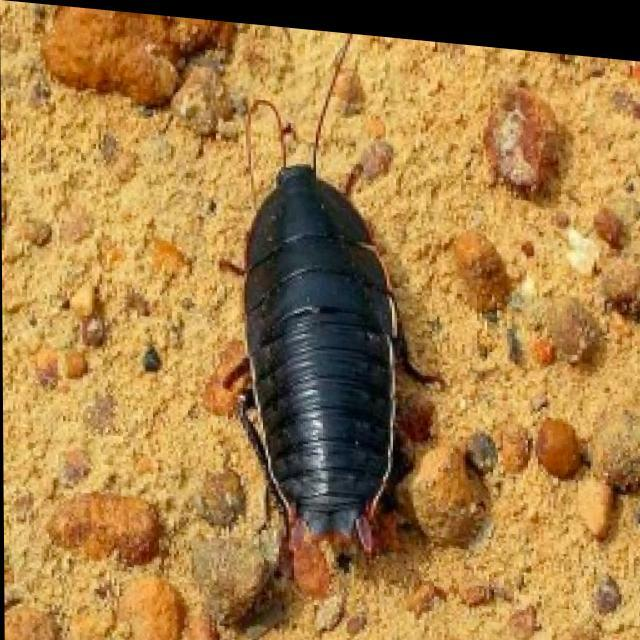cockroach: (212, 110, 400, 590)
